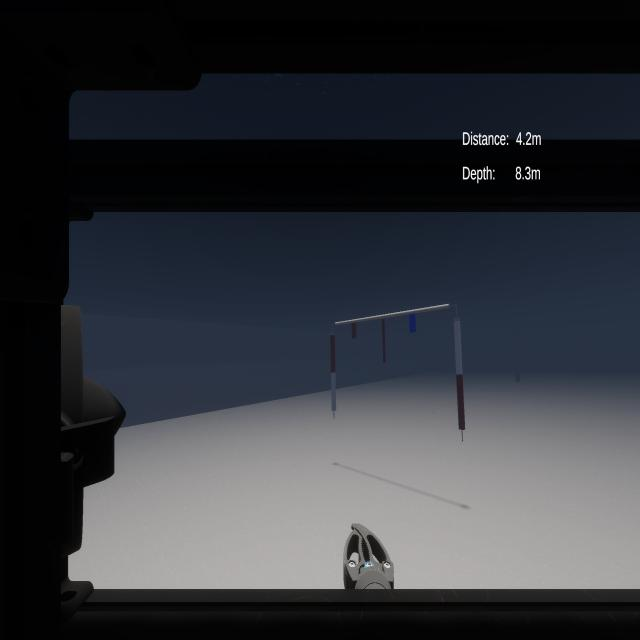Depth: (458, 156, 546, 190)
Distance: (457, 124, 546, 149)
Gate: (317, 293, 473, 451)
